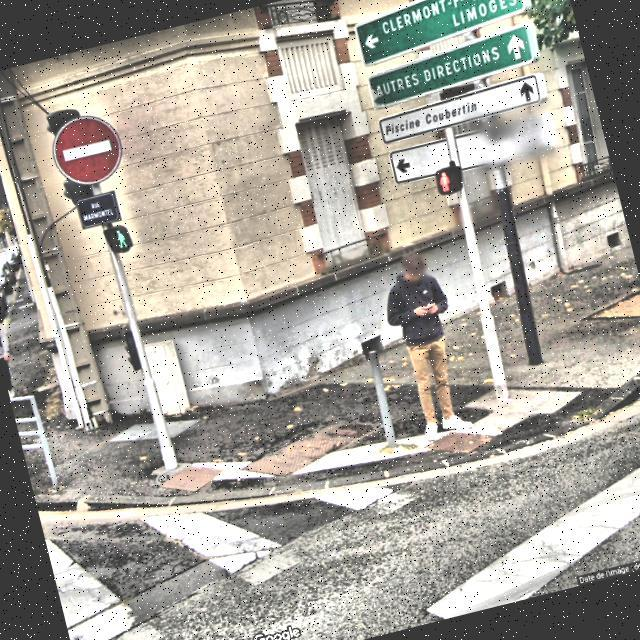green_light: (110, 224, 129, 251)
